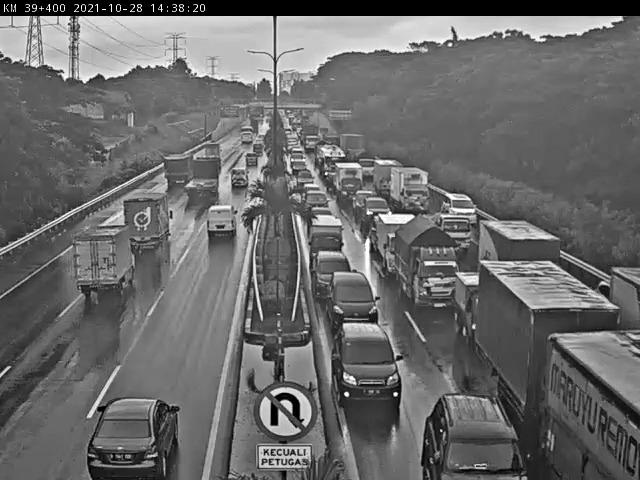big truck: (473, 265, 607, 430), (552, 324, 640, 480), (480, 218, 565, 286), (600, 268, 640, 333), (181, 157, 224, 196), (163, 153, 192, 188)
car: (57, 397, 203, 480), (419, 386, 524, 480), (333, 313, 397, 411), (327, 269, 393, 322), (200, 206, 248, 243), (315, 251, 353, 297), (437, 187, 475, 222), (227, 166, 250, 195), (242, 153, 261, 172)
small truck: (396, 223, 462, 318), (66, 228, 132, 318), (120, 186, 176, 253), (388, 164, 437, 217), (377, 211, 416, 274), (452, 274, 494, 331), (434, 205, 475, 248), (301, 218, 345, 256)
